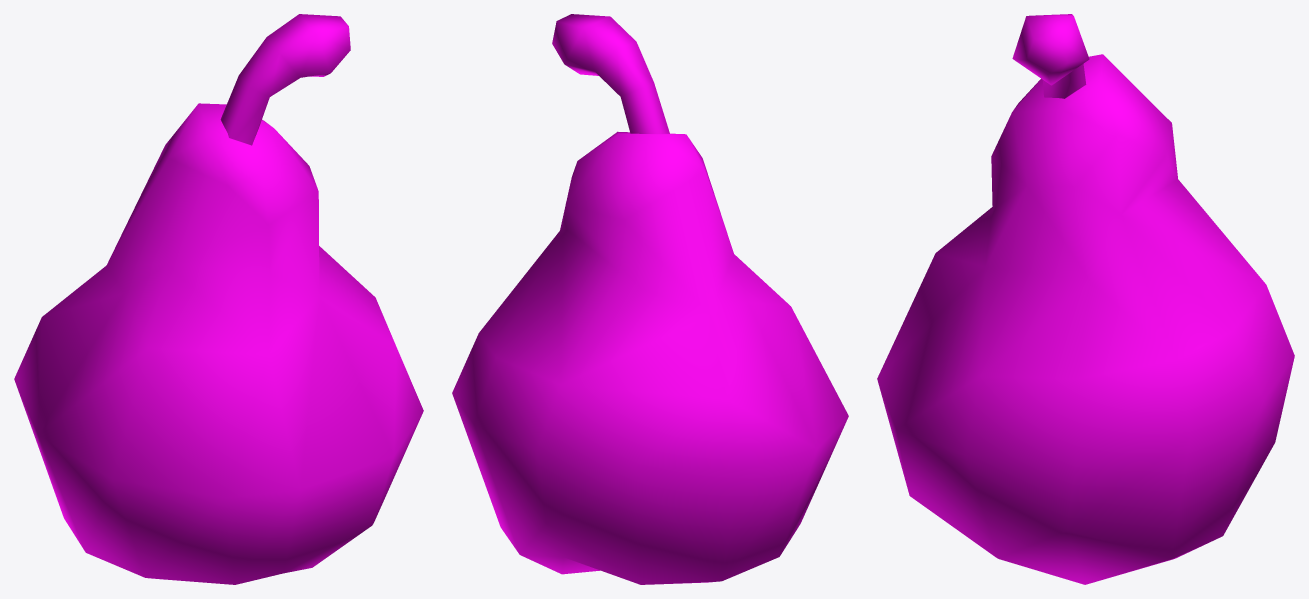
File: pear_meshCollider.fbx
3 views of the same model, side by side, from view 1: azimuth 30°, elevation 25°; view 2: azimuth 150°, elevation 25°; view 3: azimuth 270°, elevation 25° (orthographic). The views are drawn at different scales.
Parts seen in each view (by area): view 1: foods_pear_meshCollider; view 2: foods_pear_meshCollider; view 3: foods_pear_meshCollider.
Part boxes in pixels (bbox=[...]): foods_pear_meshCollider: bbox=[14, 14, 423, 584]; foods_pear_meshCollider: bbox=[452, 14, 848, 584]; foods_pear_meshCollider: bbox=[877, 14, 1294, 584].
Bounding box in the file's own units: 9.43 × 13.69 × 9.09.
